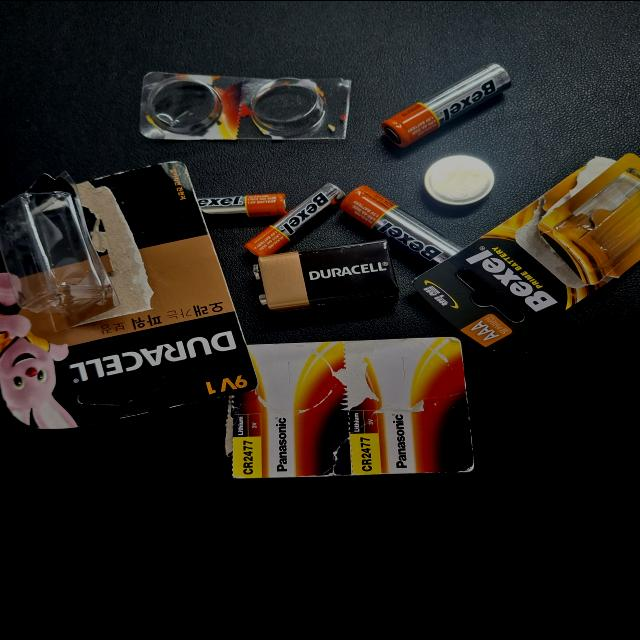9V: (438, 350, 532, 459)
AA: (504, 415, 606, 505)
AAA: (513, 344, 611, 418), (563, 308, 597, 376)
COIN: (580, 479, 640, 531)
